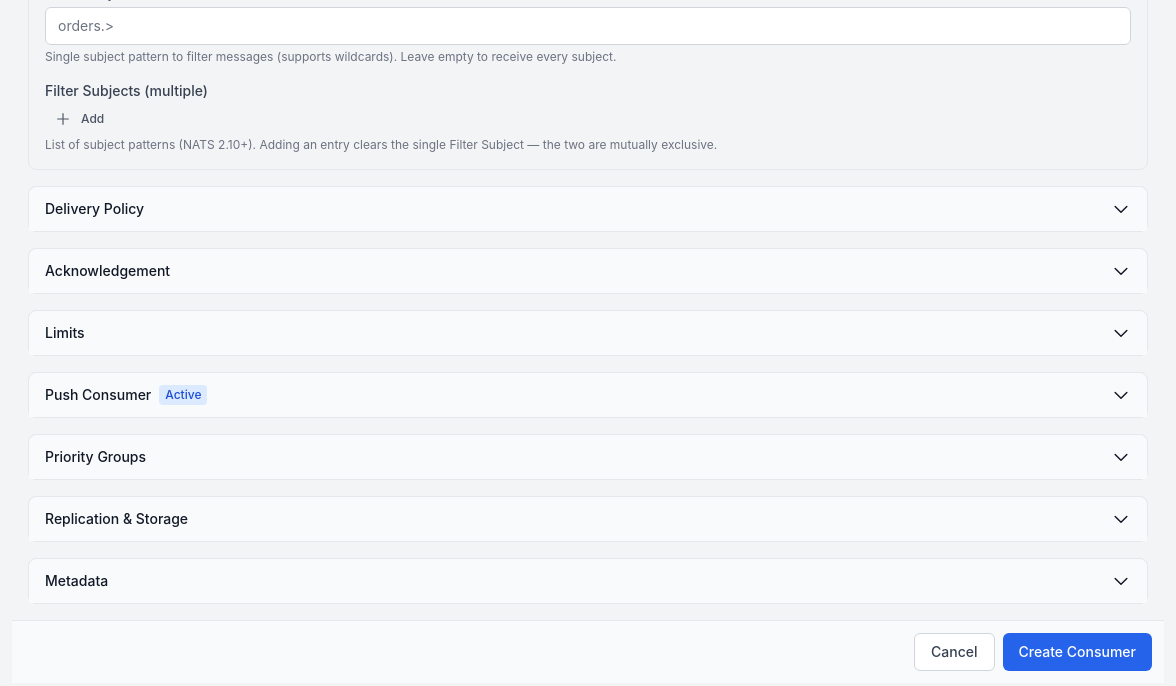
Scenario: ConsumerEditor priority groups › locks the section for push consumers
The width and height of the screenshot is (1176, 686).
(page scrolled)
Click the button "Priority Groups": x=96, y=456 [29, 435, 1147, 479]
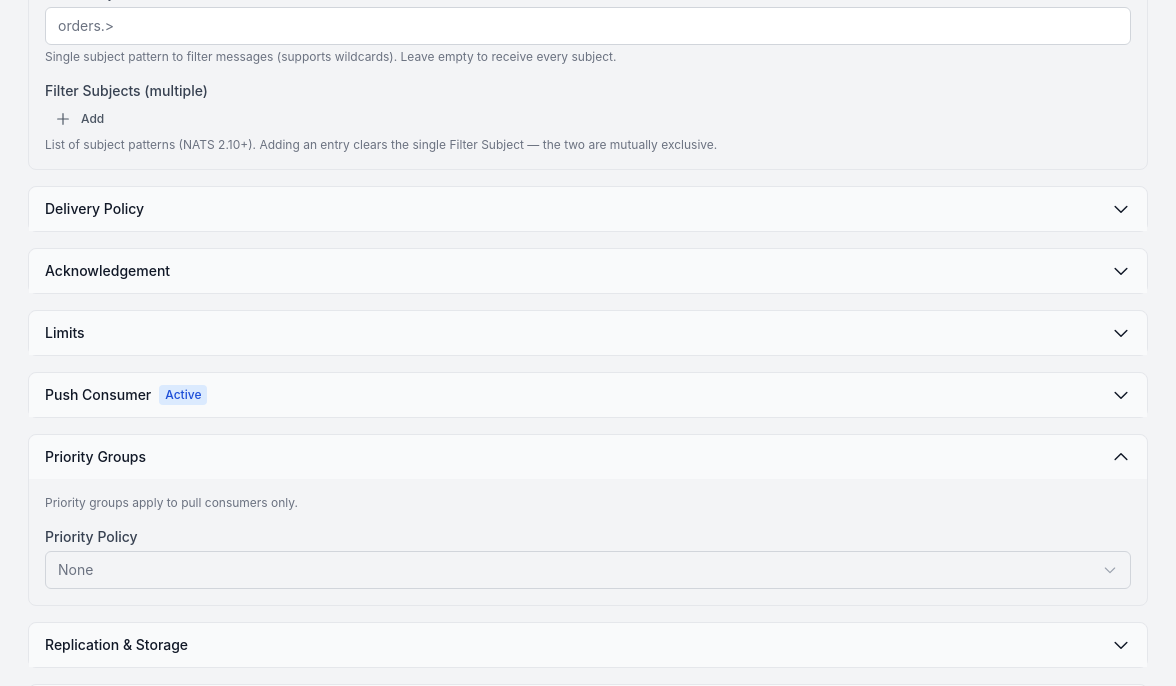
Check: the text "Priority groups apply to pull consumers only." is shown, box [45, 495, 298, 510]
Check: the button named "Priority Policy" is disabled, box [45, 551, 1131, 589]
